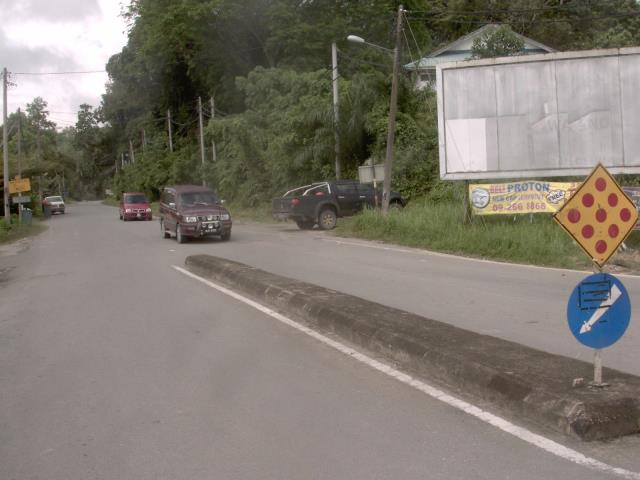traffic_sign: (546, 155, 640, 271), (561, 266, 634, 354)
